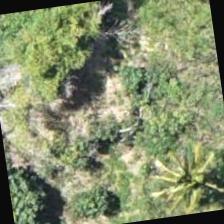Kelapa_Sawit: (138, 126, 223, 221)
